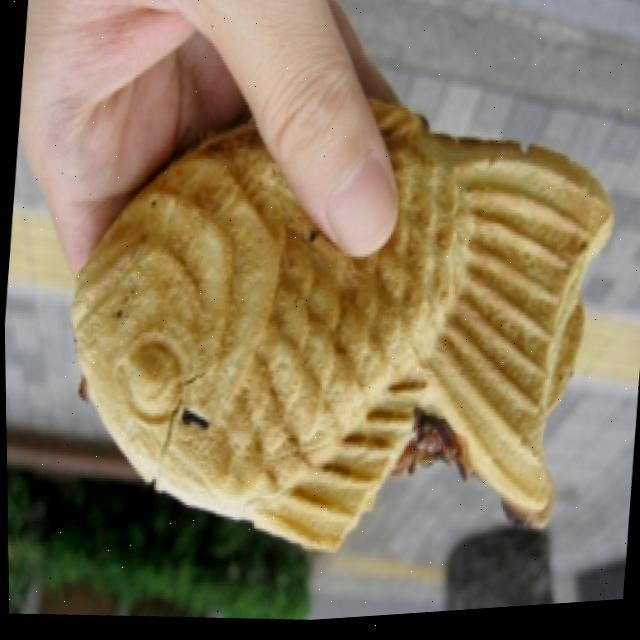熟制海鲜: (48, 62, 624, 601)
